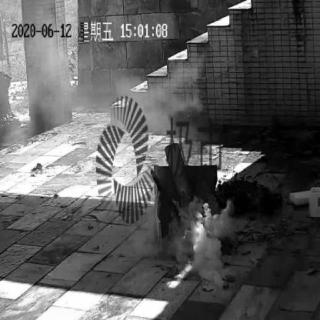Fire: (168, 190, 192, 252)
